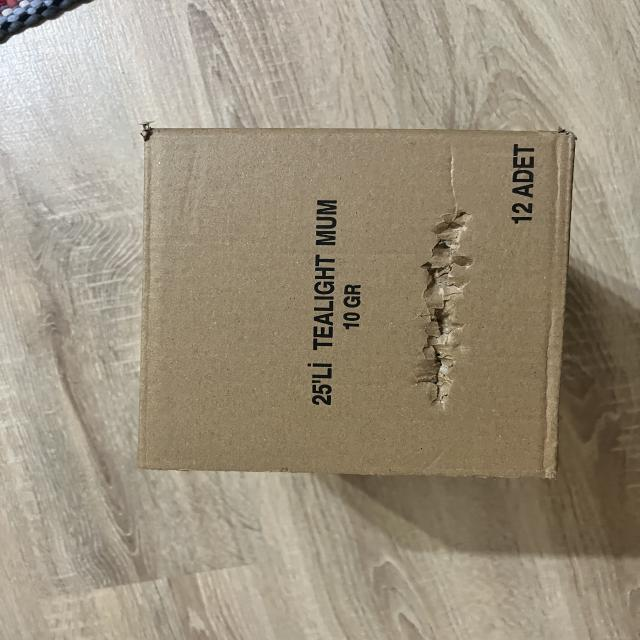damaged: (127, 118, 590, 500), (412, 194, 477, 429)
